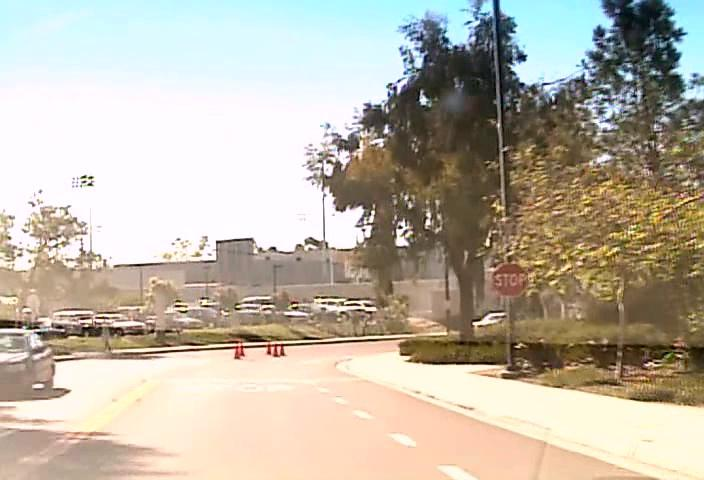stop: (491, 261, 528, 297)
